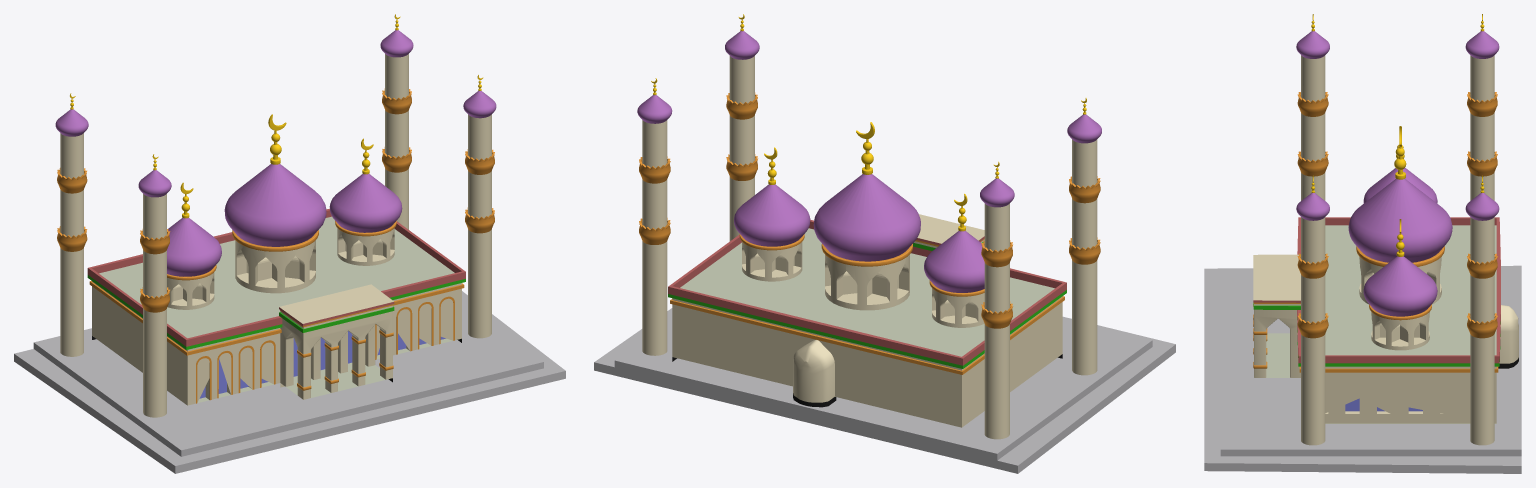
The model's file is uploads_files_5998853_Mosque.fbx.
The picture shows the model from 3 angles, left to right: view 1: azimuth 30°, elevation 25°; view 2: azimuth 150°, elevation 25°; view 3: azimuth 270°, elevation 25°; orthographic projection. The views are drawn at different scales.
Visible parts, largest first — view 1: main, floor, gombuj.001, miner L.001, miner R, miner L, gombuj, gombuj.005, miner R.001, gombuj.002, gombuj.004, gombuj.003 (+8 smaller); view 2: main, floor, gombuj.001, miner L.001, miner L, miner R.001, gombuj, gombuj.005, miner R, gombuj.002, font Spac, gombuj.004 (+5 smaller); view 3: floor, main, gombuj.001, miner R.001, miner R, gombuj.005, miner L, miner L.001, gombuj.004, main floor, gombuj, font Spac (+13 smaller).
Part boxes in pixels (x1,y1,x2,y2): main: (87, 208, 465, 405); floor: (14, 291, 565, 473); gombuj.001: (224, 130, 326, 246); miner L.001: (60, 133, 83, 356); miner R: (468, 114, 491, 338); miner L: (143, 194, 166, 417); gombuj: (232, 230, 318, 293); gombuj.005: (329, 150, 402, 232); miner R.001: (385, 54, 408, 229); gombuj.002: (167, 194, 221, 276); gombuj.004: (335, 221, 396, 265); gombuj.003: (167, 265, 216, 309); main: (668, 214, 1066, 427); floor: (594, 308, 1175, 473); gombuj.001: (813, 139, 920, 261); miner L.001: (984, 203, 1009, 439); miner L: (1072, 139, 1097, 375); miner R.001: (642, 120, 667, 355); gombuj: (821, 244, 912, 310); gombuj.005: (734, 159, 810, 246); miner R: (729, 56, 754, 241); gombuj.002: (924, 206, 984, 292); font Spac: (793, 340, 836, 407); gombuj.004: (739, 234, 804, 281); floor: (1204, 265, 1521, 473); main: (1253, 217, 1500, 423); gombuj.001: (1348, 147, 1452, 262); miner R.001: (1470, 217, 1494, 445); miner R: (1301, 217, 1325, 445); gombuj.005: (1363, 234, 1437, 316); miner L: (1301, 55, 1325, 200); miner L.001: (1470, 55, 1494, 200); gombuj.004: (1369, 304, 1431, 350); main floor: (1266, 333, 1496, 423); gombuj: (1356, 246, 1444, 304); font Spac: (1498, 305, 1518, 368).
Size of the model in its own units: 3868 by 2509 by 2592.
